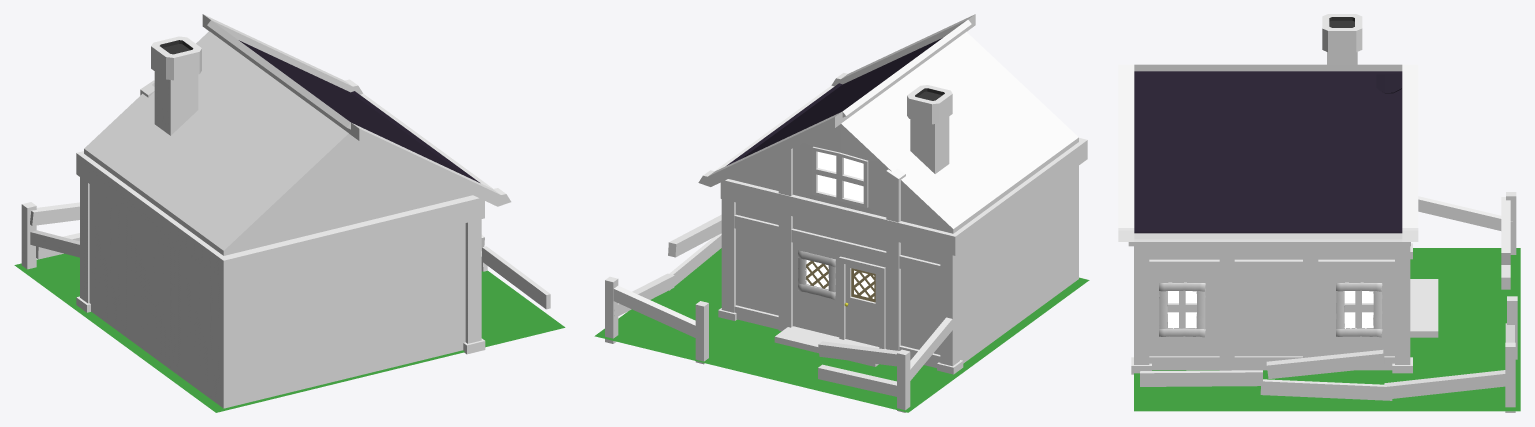
File: House12.glb
3 views of the same model, side by side, from view 1: azimuth 30°, elevation 25°; view 2: azimuth 150°, elevation 25°; view 3: azimuth 270°, elevation 25° (orthographic). The views are drawn at different scales.
Parts seen in each view (by area): view 1: Cube, Cube.002, Cube.001, Plane, Cube.016, Cube.012, Cube.019, Cube.061, Cube.060, Cube.054, Cube.063; view 2: Cube, Plane, Cube.002, Cube.001, Cube.016, Cube.007, Cube.004, Cube.003, Cube.005, Cube.019, Cube.021, Cube.064 (+13 smaller); view 3: Cube.001, Plane, Cube, Cube.015, Cube.055, Cube.021, Cube.059, Cube.012, Cube.056, Cube.061, Cube.016, Cube.020 (+16 smaller).
Boxes of the visible parts, x1,y1,x2,y2 form: Cube: [84, 31, 472, 408]; Cube.002: [76, 151, 484, 281]; Cube.001: [202, 14, 511, 206]; Plane: [14, 253, 565, 412]; Cube.016: [151, 36, 201, 135]; Cube.012: [463, 219, 485, 354]; Cube.019: [76, 177, 90, 312]; Cube.061: [482, 246, 550, 309]; Cube.060: [30, 202, 79, 225]; Cube.054: [21, 202, 36, 269]; Cube.063: [30, 230, 79, 257]; Cube: [728, 32, 1078, 363]; Plane: [594, 248, 1089, 412]; Cube.002: [720, 138, 1087, 255]; Cube.001: [698, 14, 975, 186]; Cube.016: [907, 85, 952, 173]; Cube.007: [734, 214, 940, 278]; Cube.004: [886, 168, 905, 350]; Cube.003: [778, 148, 792, 331]; Cube.005: [845, 264, 879, 346]; Cube.019: [937, 252, 963, 374]; Cube.021: [718, 199, 736, 320]; Cube.064: [613, 285, 695, 337]; Cube.001: [1118, 64, 1418, 241]; Plane: [1134, 248, 1520, 411]; Cube: [1149, 246, 1394, 356]; Cube.015: [1149, 259, 1394, 274]; Cube.055: [1266, 350, 1384, 378]; Cube.021: [1392, 246, 1412, 373]; Cube.059: [1384, 370, 1505, 399]; Cube.012: [1131, 246, 1151, 374]; Cube.056: [1260, 379, 1392, 400]; Cube.061: [1140, 370, 1262, 386]; Cube.016: [1322, 14, 1362, 64]; Cube.020: [1149, 356, 1394, 370].
Size of the model in its own units: 5.61 by 4.22 by 5.83.
